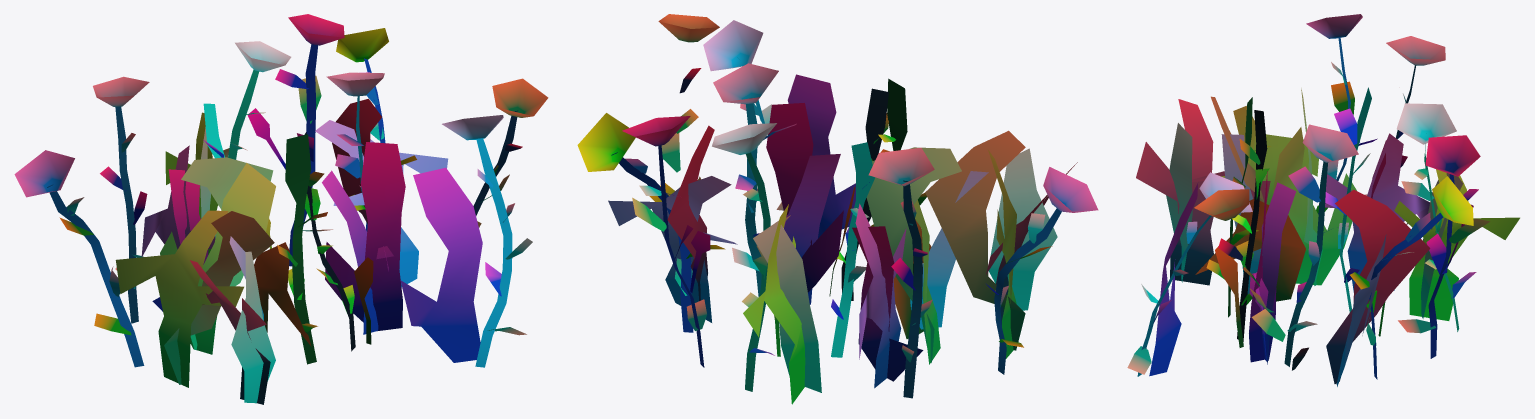
Rendered from matted_pratia_g.fbx.
3 views of the same model, side by side, from view 1: azimuth 30°, elevation 25°; view 2: azimuth 150°, elevation 25°; view 3: azimuth 270°, elevation 25° (orthographic). The views are drawn at different scales.
Parts seen in each view (by area): view 1: _cf0a_VarG_LOD1; view 2: _cf0a_VarG_LOD1; view 3: _cf0a_VarG_LOD1.
Part boxes in pixels (x1,y1,x2,y2): _cf0a_VarG_LOD1: (14, 14, 548, 404); _cf0a_VarG_LOD1: (577, 14, 1098, 404); _cf0a_VarG_LOD1: (1127, 14, 1519, 386).
Bounding box in the file's own units: 17.79 × 8.88 × 13.37.
